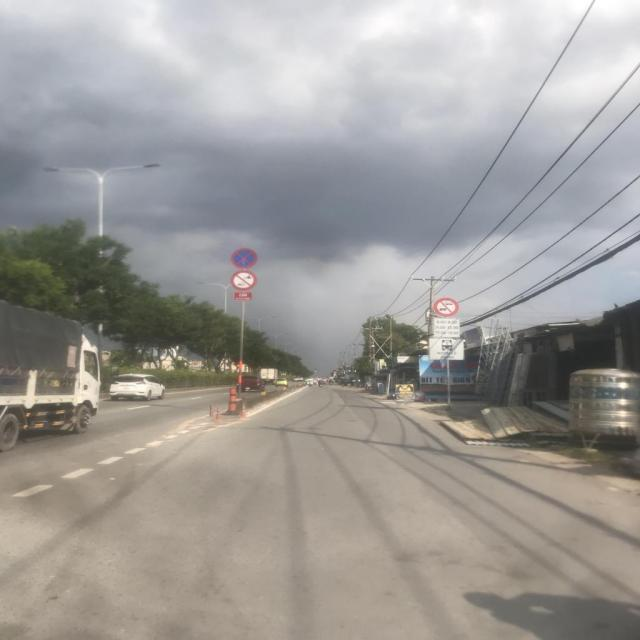107-cam-oto-khach-va-oto-tai: (433, 298, 459, 316)
130-cam-dung-va-do-xe: (231, 248, 257, 270)
